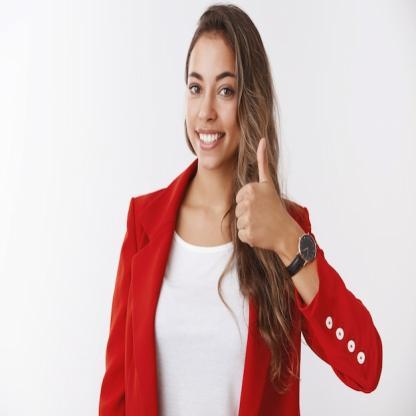thumb_up: (233, 134, 284, 258)
